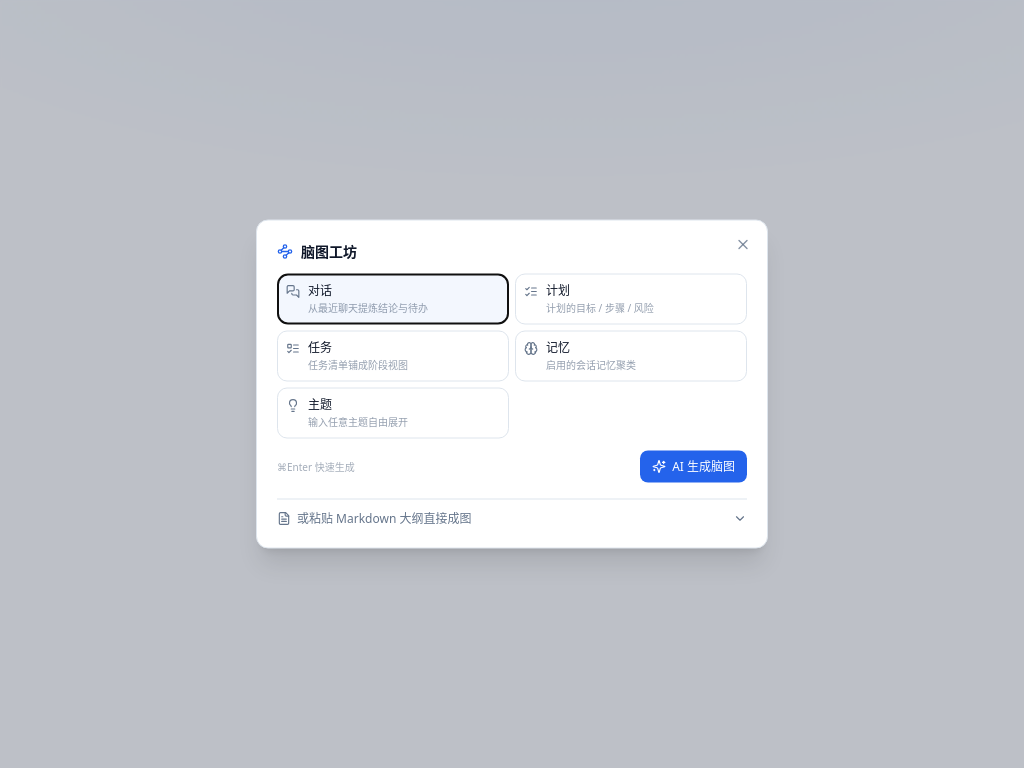
Test case: MindDialog 脑图工坊（M31） › 渲染五来源；选择「主题」后出现输入框
Expected: the heading "脑图工坊" is shown, [277, 242, 357, 260]
Expected: the field with placeholder "输入主题" is not shown
Click the radio button labelled "主题 输入任意主题自由展开" at {"x": 393, "y": 413}, box [277, 388, 509, 438]
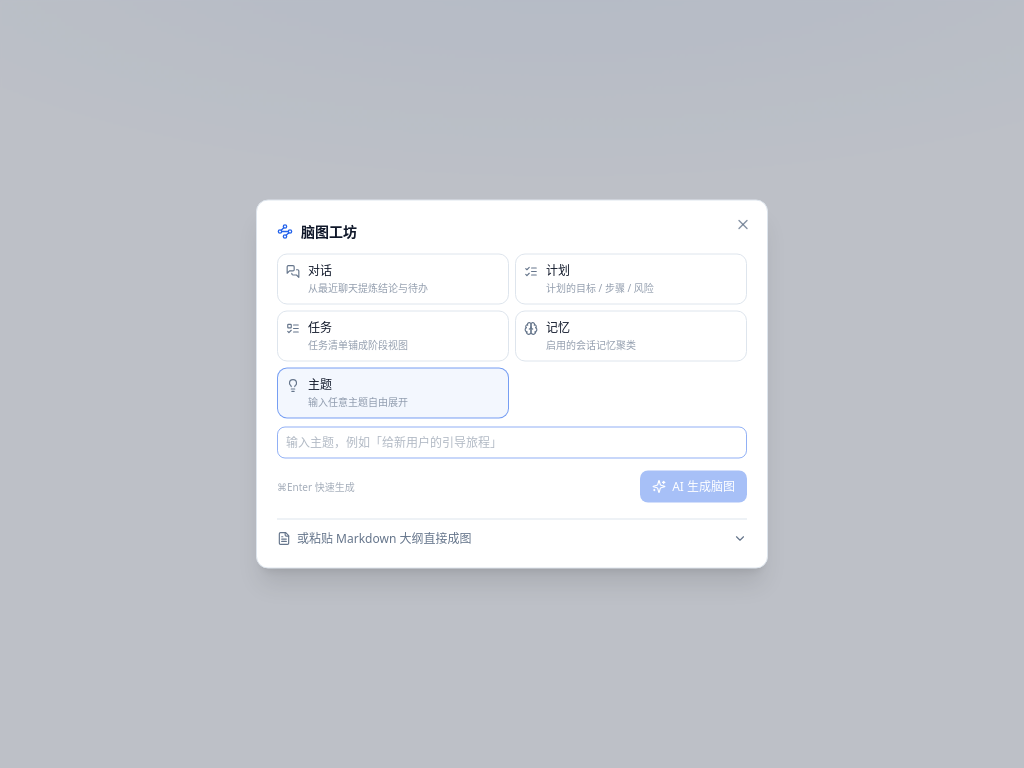
Expected: the field with placeholder "输入主题，例如「给新用户的引导旅程」" is shown, [277, 426, 747, 458]
